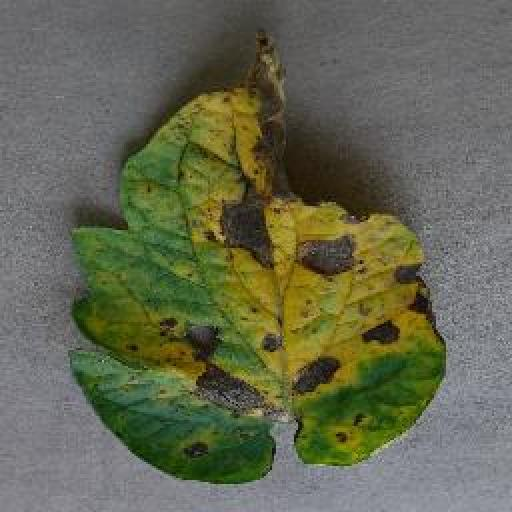Early Blight: (66, 33, 451, 488)
